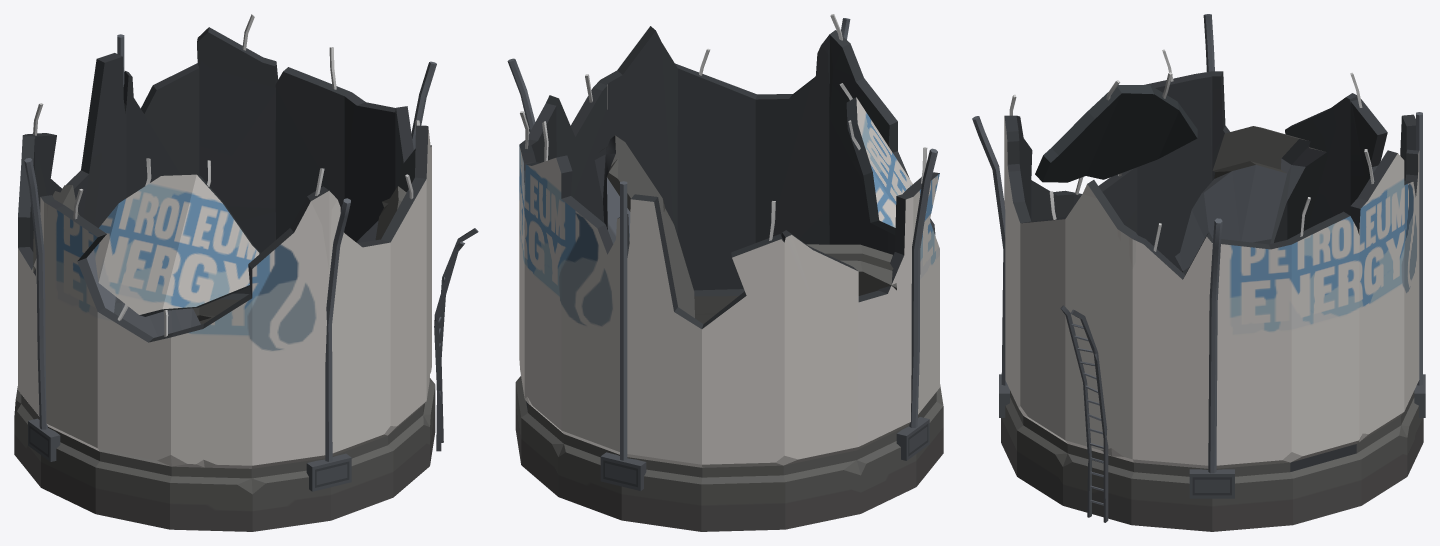
File: SM_Bld_GasTower_Destroyed_02.fbx
3 renders of one model, left to right at view 1: azimuth 30°, elevation 25°; view 2: azimuth 150°, elevation 25°; view 3: azimuth 270°, elevation 25°, orthographic. The views are drawn at different scales.
Parts seen in each view (by area): view 1: SM_Bld_GasTower_Destroyed_02; view 2: SM_Bld_GasTower_Destroyed_02; view 3: SM_Bld_GasTower_Destroyed_02.
Boxes of the visible parts, x1,y1,x2,y2 form: SM_Bld_GasTower_Destroyed_02: [14, 14, 478, 531]; SM_Bld_GasTower_Destroyed_02: [507, 14, 943, 531]; SM_Bld_GasTower_Destroyed_02: [972, 14, 1425, 531].
Bounding box in the file's own units: 1534 × 1226 × 1453.
